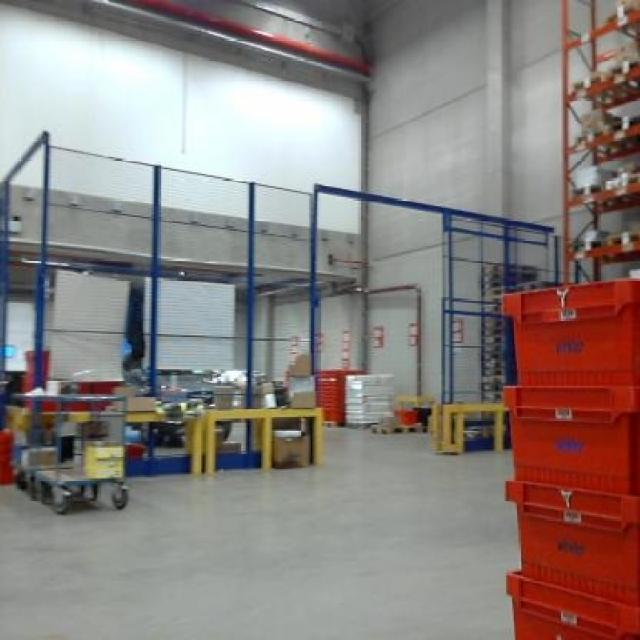pallets: (503, 277, 637, 637)
